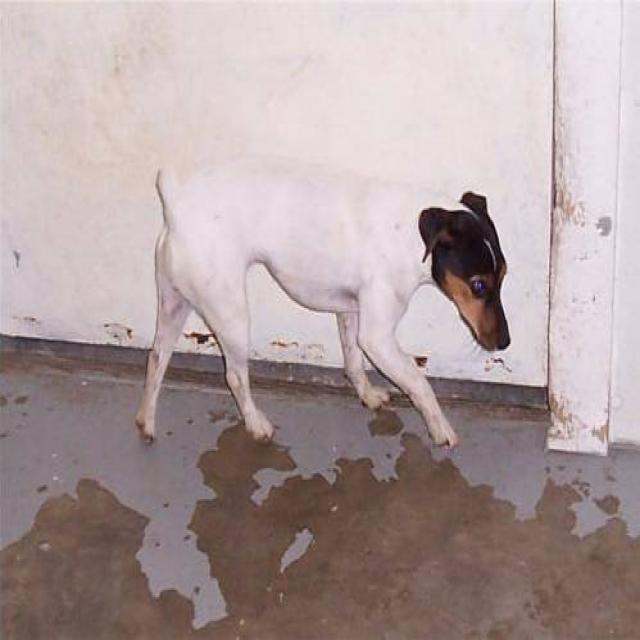dog: (132, 153, 512, 451)
